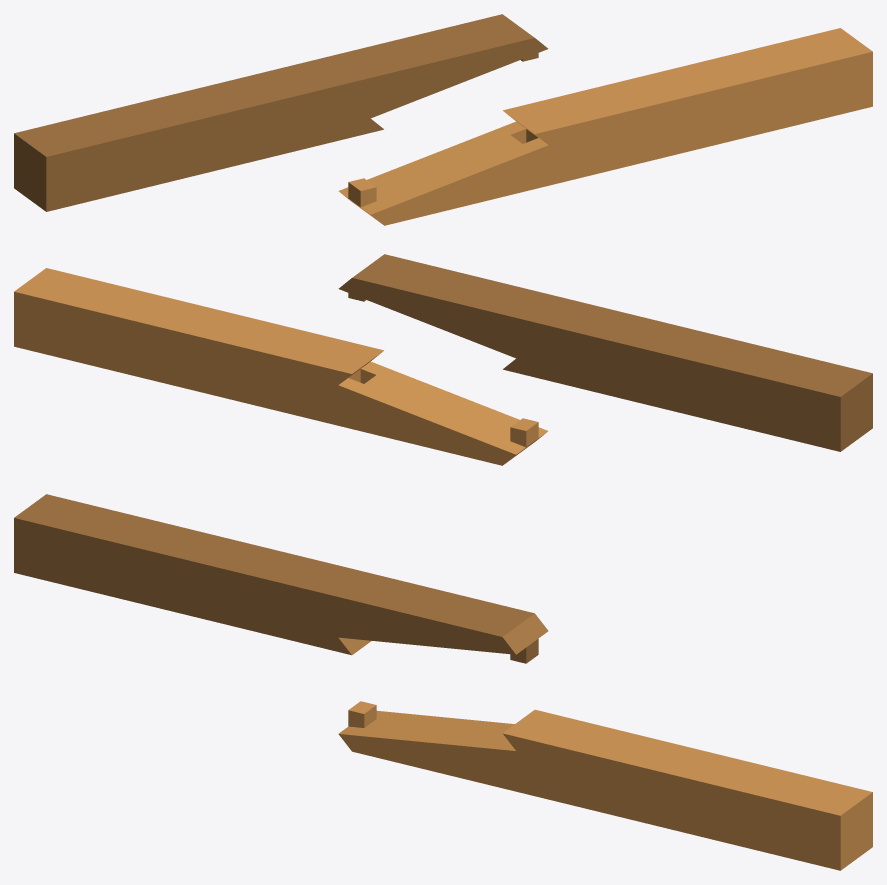
3 views of the same model, one above another, from view 1: azimuth 30°, elevation 25°; view 2: azimuth 150°, elevation 25°; view 3: azimuth 330°, elevation 25° (orthographic).
Bounding box in the file's own units: 1.1 × 0.1931 × 0.075.
